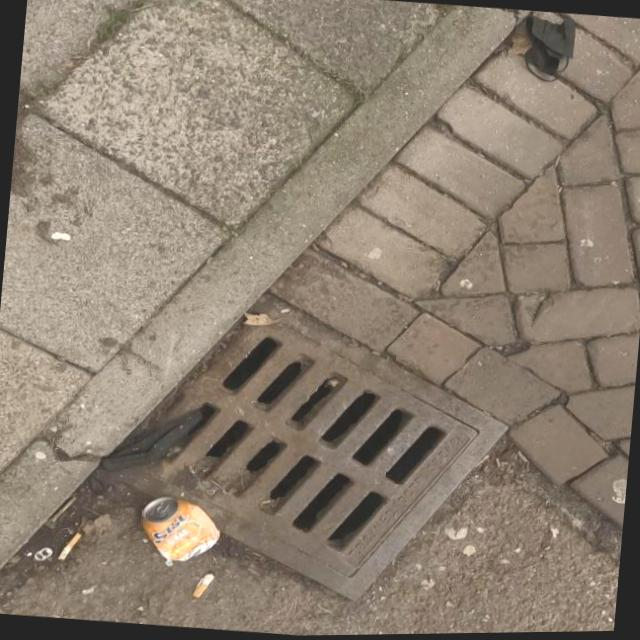Can-Metal: (134, 497, 225, 568)
Mask: (97, 398, 205, 476), (512, 13, 590, 92)
